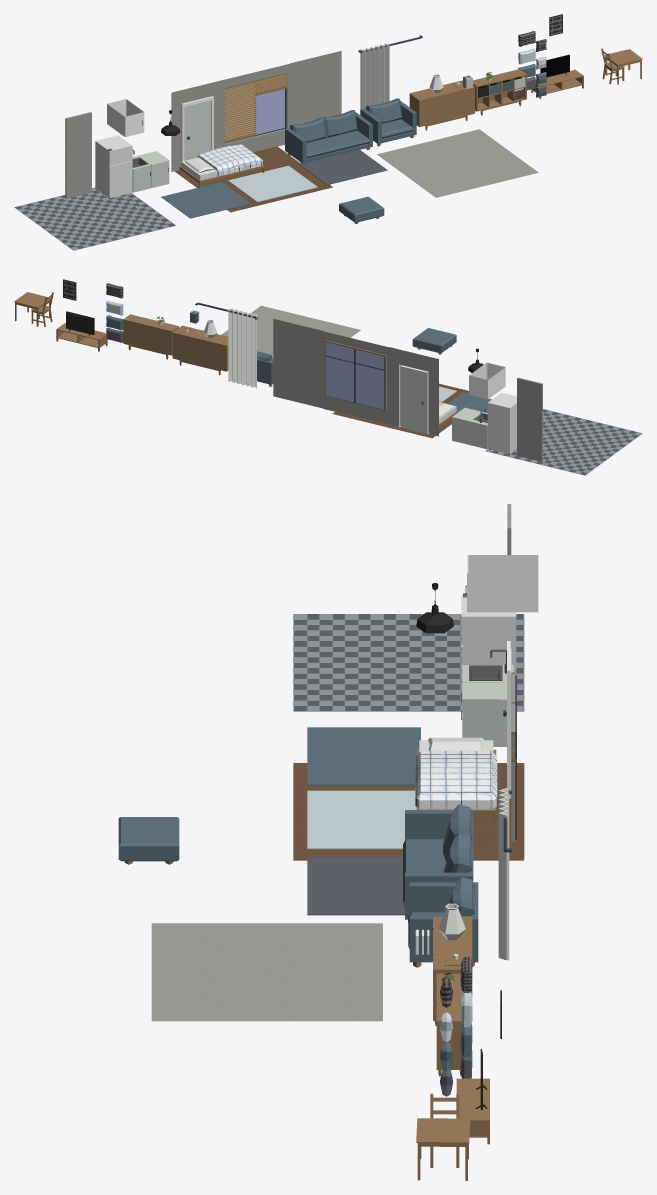
The model's file is studio apartment.fbx.
The picture shows the model from 3 angles, top to bottom: view 1: azimuth 30°, elevation 25°; view 2: azimuth 150°, elevation 25°; view 3: azimuth 270°, elevation 25°; orthographic projection. The views are drawn at different scales.
Parts seen in each view (by area): view 1: celing, floor.001, sofa, wall, window, wall door, duble sided wall, chest of draws, frige, floor, bead, rug .002 (+15 smaller); view 2: window, floor.001, wall, wall door, curtain, duble sided wall, chest of draws, Door, celing, frige, shelf, cabnet top (+10 smaller); view 3: celing, floor.001, rug .002, rug .001, rug, floor, sofa, bead, cabnet top, sofa chair, frige, ottoman (+8 smaller).
Part boxes in pixels (<box>): celing: <box>377,129,538,197</box>; floor.001: <box>14,187,175,250</box>; sofa: <box>285,110,372,164</box>; wall: <box>290,51,341,127</box>; window: <box>223,63,289,152</box>; wall door: <box>171,80,222,171</box>; duble sided wall: <box>65,112,91,198</box>; chest of draws: <box>409,80,474,130</box>; frige: <box>95,135,132,198</box>; floor: <box>175,146,332,212</box>; bead: <box>179,144,264,188</box>; rug .002: <box>161,182,250,218</box>; window: <box>323,331,388,424</box>; floor.001: <box>485,409,642,475</box>; wall: <box>273,319,323,408</box>; wall door: <box>389,347,438,436</box>; curtain: <box>228,308,256,388</box>; duble sided wall: <box>517,377,542,461</box>; chest of draws: <box>172,325,228,375</box>; Door: <box>400,366,428,433</box>; celing: <box>221,305,360,358</box>; frige: <box>487,392,516,454</box>; shelf: <box>123,314,178,359</box>; cabnet top: <box>469,362,505,399</box>; celing: <box>151,923,382,1021</box>; floor.001: <box>293,614,524,711</box>; rug .002: <box>307,727,420,785</box>; rug .001: <box>307,790,416,849</box>; rug: <box>307,857,404,915</box>; floor: <box>293,763,524,860</box>; sofa: <box>403,804,473,922</box>; bead: <box>415,740,497,824</box>; cabnet top: <box>465,555,538,612</box>; sofa chair: <box>408,877,478,967</box>; frige: <box>461,593,516,708</box>; ottoman: <box>118,817,179,864</box>.
Bounding box in the file's own units: 2337 × 311 × 725.
